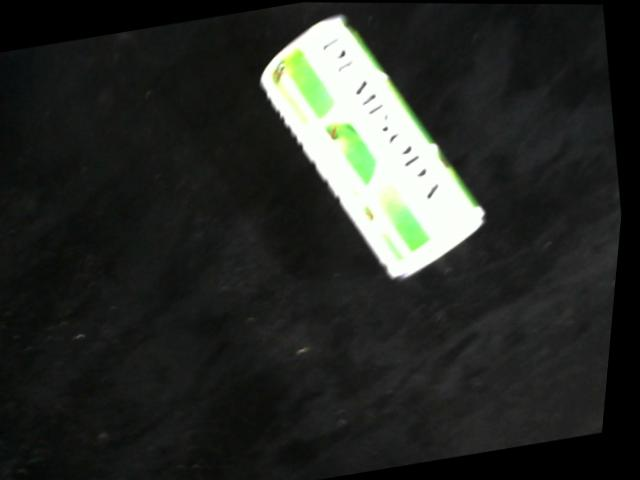can: (257, 12, 492, 282)
